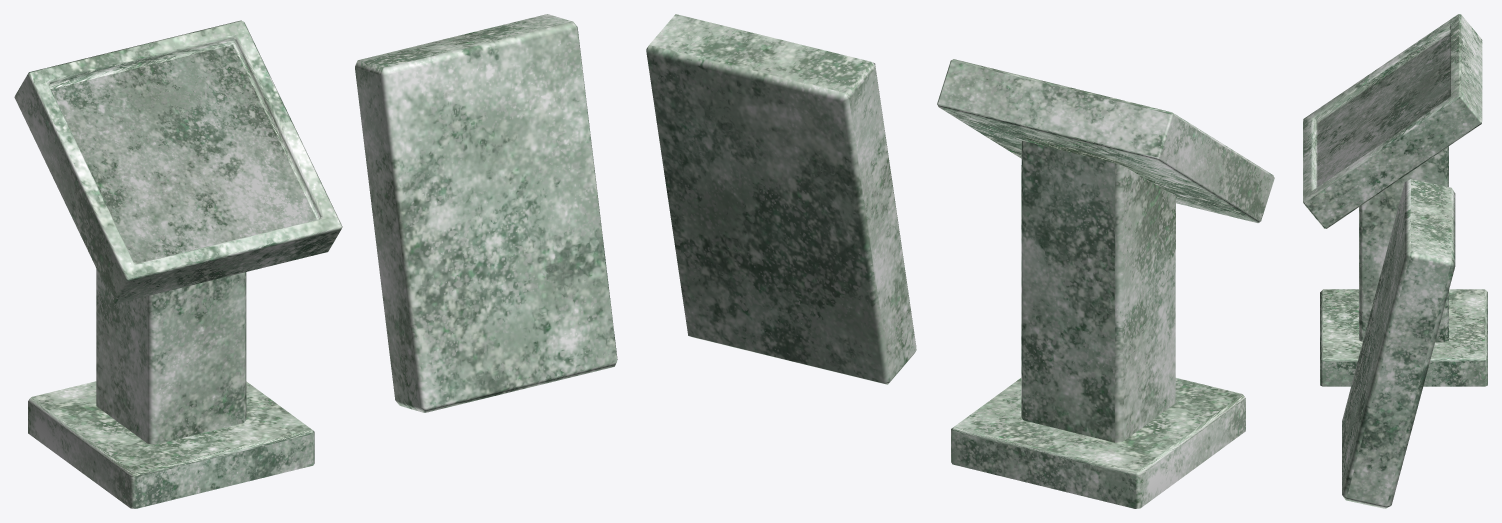
The model's file is DOOR_CTRLv02.fbx.
3 views of the same model, side by side, from view 1: azimuth 30°, elevation 25°; view 2: azimuth 150°, elevation 25°; view 3: azimuth 270°, elevation 25° (orthographic). The views are drawn at different scales.
Parts seen in each view (by area): view 1: ctrl, tomb; view 2: ctrl, tomb; view 3: ctrl, tomb.
Part boxes in pixels (bbox=[...]): ctrl: bbox=[14, 20, 342, 508]; tomb: bbox=[355, 14, 617, 412]; ctrl: bbox=[937, 59, 1274, 508]; tomb: bbox=[646, 14, 916, 384]; ctrl: bbox=[1303, 14, 1487, 386]; tomb: bbox=[1342, 179, 1455, 508].
Size of the model in its own units: 98.5 by 68.54 by 38.54.
Materials: 1 (1 with a texture image).
